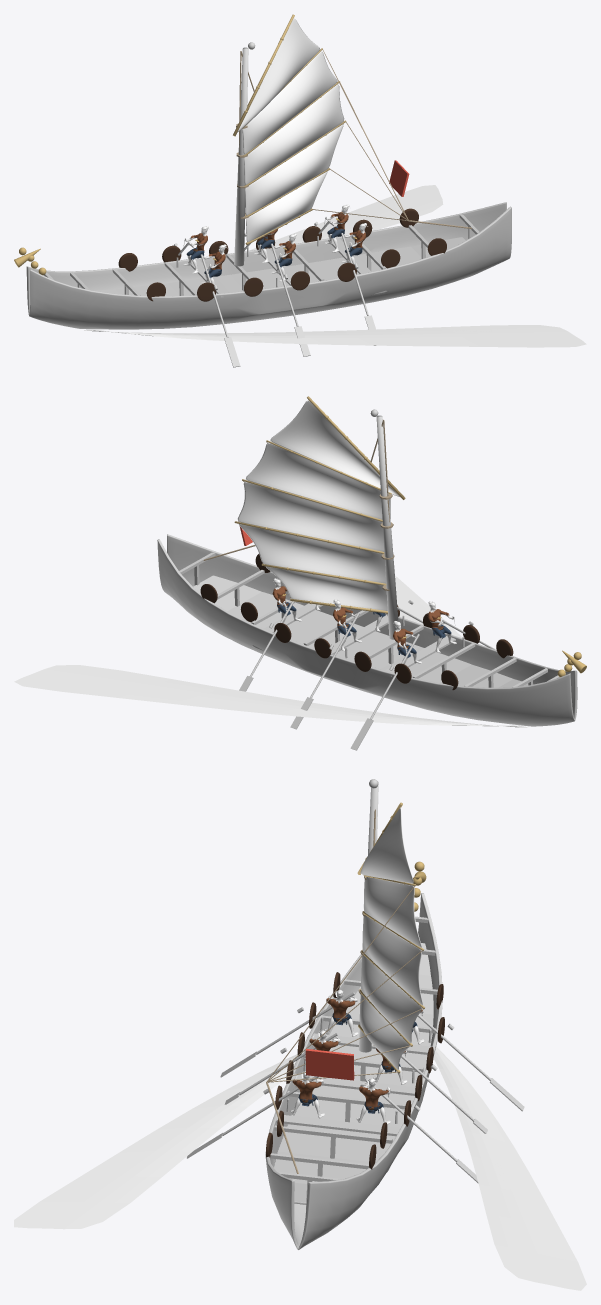
The model's file is thuyen_daiviet_master.glb.
3 renders of one model, top to bottom at view 1: azimuth 30°, elevation 25°; view 2: azimuth 150°, elevation 25°; view 3: azimuth 270°, elevation 25°, orthographic. The views are drawn at different scales.
Parts seen in each view (by area): view 1: Part_Than_Thuyen_GoLim, Part_Mui_Buom_CanhDoi_PBR, Part_Mesh_SongRe_SoaiThuyen, Part_Khien_May_SonThen, Part_San_Boong_Thuyen, Part_Khung_Suon_ChiuLuc, Part_Cot_Buom_GoLim, Part_Nan_Tre_Va_Ngong_Buom, Part_Day_Leo_Va_Rigging, Part_BucNgoi_Thwart_Va_CocCheo, Rower_Port_1.001, Rower_Port_2.001 (+4 smaller); view 2: Part_Mui_Buom_CanhDoi_PBR, Part_Than_Thuyen_GoLim, Part_Mesh_SongRe_SoaiThuyen, Part_San_Boong_Thuyen, Part_Khien_May_SonThen, Part_Khung_Suon_ChiuLuc, Part_Nan_Tre_Va_Ngong_Buom, Part_Cot_Buom_GoLim, Part_BucNgoi_Thwart_Va_CocCheo, Rower_Stbd_5.001, Rower_Stbd_4.001, Rower_Stbd_3.001 (+2 smaller); view 3: Part_Mesh_SongRe_SoaiThuyen, Part_Mui_Buom_CanhDoi_PBR, Part_San_Boong_Thuyen, Part_Than_Thuyen_GoLim, Part_Khung_Suon_ChiuLuc, Part_BucNgoi_Thwart_Va_CocCheo, Part_Khien_May_SonThen, Part_Day_Leo_Va_Rigging, Part_CoLenh_NguHanh_Master, Rower_Stbd_3.001, Rower_Port_2.001, Rower_Port_0.001 (+5 smaller).
Part boxes in pixels (bbox=[...]): Part_Than_Thuyen_GoLim: bbox=[26, 202, 511, 329]; Part_Mui_Buom_CanhDoi_PBR: bbox=[237, 18, 344, 242]; Part_Mesh_SongRe_SoaiThuyen: bbox=[84, 185, 586, 347]; Part_Khien_May_SonThen: bbox=[118, 208, 446, 301]; Part_San_Boong_Thuyen: bbox=[94, 237, 465, 296]; Part_Khung_Suon_ChiuLuc: bbox=[44, 214, 479, 295]; Part_Cot_Buom_GoLim: bbox=[234, 42, 255, 266]; Part_Nan_Tre_Va_Ngong_Buom: bbox=[233, 14, 346, 244]; Part_Day_Leo_Va_Rigging: bbox=[236, 49, 471, 228]; Part_BucNgoi_Thwart_Va_CocCheo: bbox=[176, 236, 371, 297]; Rower_Port_1.001: bbox=[271, 233, 310, 356]; Rower_Port_2.001: bbox=[200, 244, 240, 367]; Part_Mui_Buom_CanhDoi_PBR: bbox=[237, 400, 400, 610]; Part_Than_Thuyen_GoLim: bbox=[157, 534, 577, 726]; Part_Mesh_SongRe_SoaiThuyen: bbox=[14, 575, 528, 727]; Part_San_Boong_Thuyen: bbox=[193, 575, 528, 687]; Part_Khien_May_SonThen: bbox=[200, 554, 513, 690]; Part_Khung_Suon_ChiuLuc: bbox=[179, 552, 565, 687]; Part_Nan_Tre_Va_Ngong_Buom: bbox=[234, 396, 405, 613]; Part_Cot_Buom_GoLim: bbox=[370, 409, 398, 639]; Part_BucNgoi_Thwart_Va_CocCheo: bbox=[264, 603, 464, 676]; Rower_Stbd_5.001: bbox=[350, 621, 421, 750]; Rower_Stbd_4.001: bbox=[290, 599, 361, 729]; Rower_Stbd_3.001: bbox=[239, 578, 301, 691]; Part_Mesh_SongRe_SoaiThuyen: bbox=[14, 1046, 586, 1290]; Part_Mui_Buom_CanhDoi_PBR: bbox=[359, 807, 422, 1069]; Part_San_Boong_Thuyen: bbox=[273, 943, 433, 1204]; Part_Than_Thuyen_GoLim: bbox=[265, 893, 442, 1249]; Part_Khung_Suon_ChiuLuc: bbox=[270, 916, 437, 1214]; Part_BucNgoi_Thwart_Va_CocCheo: bbox=[276, 1017, 435, 1136]; Part_Khien_May_SonThen: bbox=[266, 972, 444, 1169]; Part_Day_Leo_Va_Rigging: bbox=[266, 809, 423, 1173]; Part_CoLenh_NguHanh_Master: bbox=[305, 1049, 354, 1080]; Rower_Stbd_3.001: bbox=[356, 1078, 478, 1183]; Rower_Port_2.001: bbox=[220, 989, 358, 1077]; Rower_Port_0.001: bbox=[187, 1071, 324, 1158].
Bounding box in the file's own units: 15.42 × 8.57 × 12.21.
